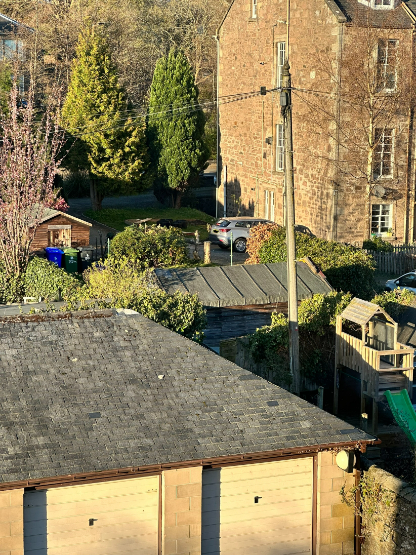car: (211, 210, 301, 249), (384, 266, 416, 295)
tree: (54, 33, 149, 203), (144, 50, 223, 206), (3, 97, 48, 285)
